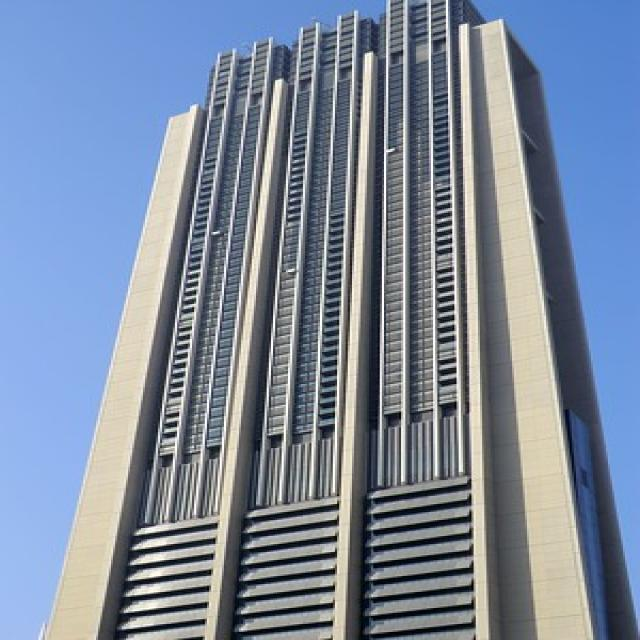Normal_building: (30, 0, 636, 638)
